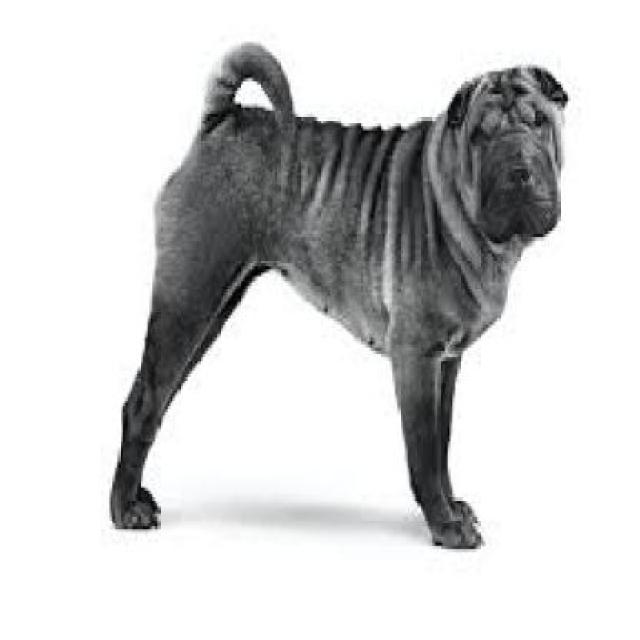animals: (106, 22, 579, 569)
